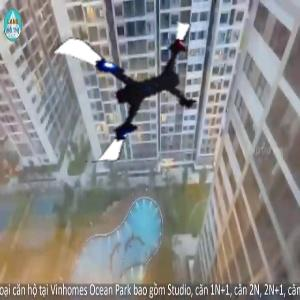drone: (58, 21, 206, 169)
